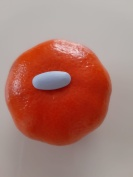Apranax: (31, 70, 72, 91)
